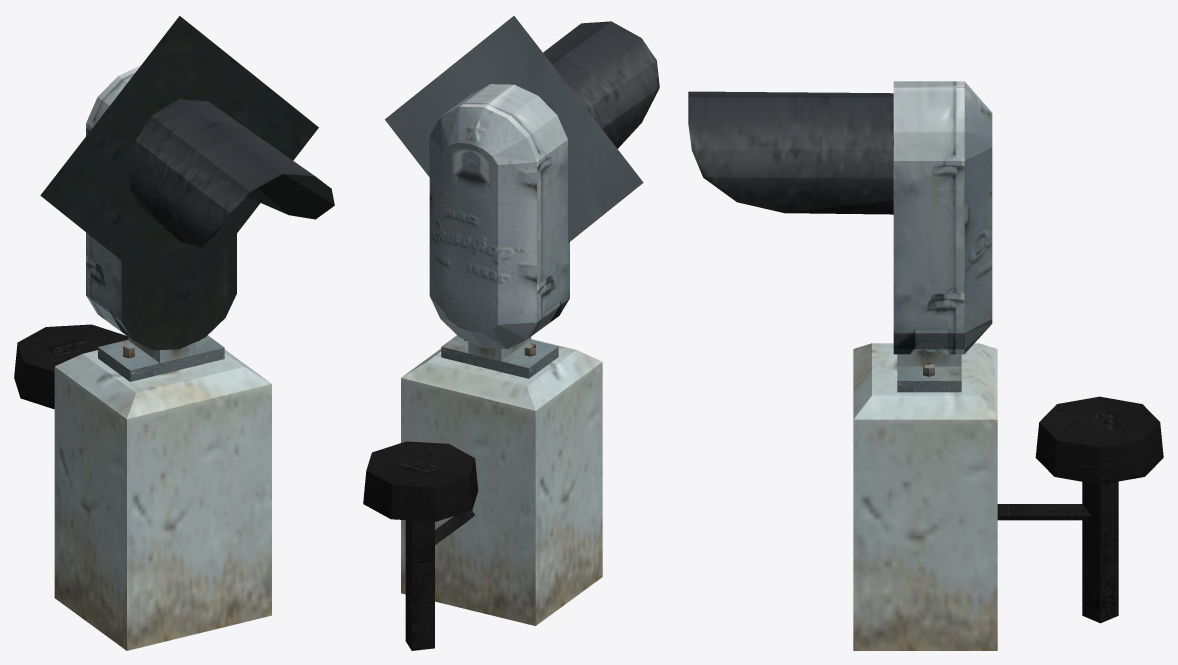
The model's file is sig_povt_k.gltf.
3 views of the same model, side by side, from view 1: azimuth 30°, elevation 25°; view 2: azimuth 150°, elevation 25°; view 3: azimuth 270°, elevation 25° (orthographic). The views are drawn at different scales.
Size of the model in its own units: 0.6958 by 1.44 by 1.03.
1 material, 1 textured.
